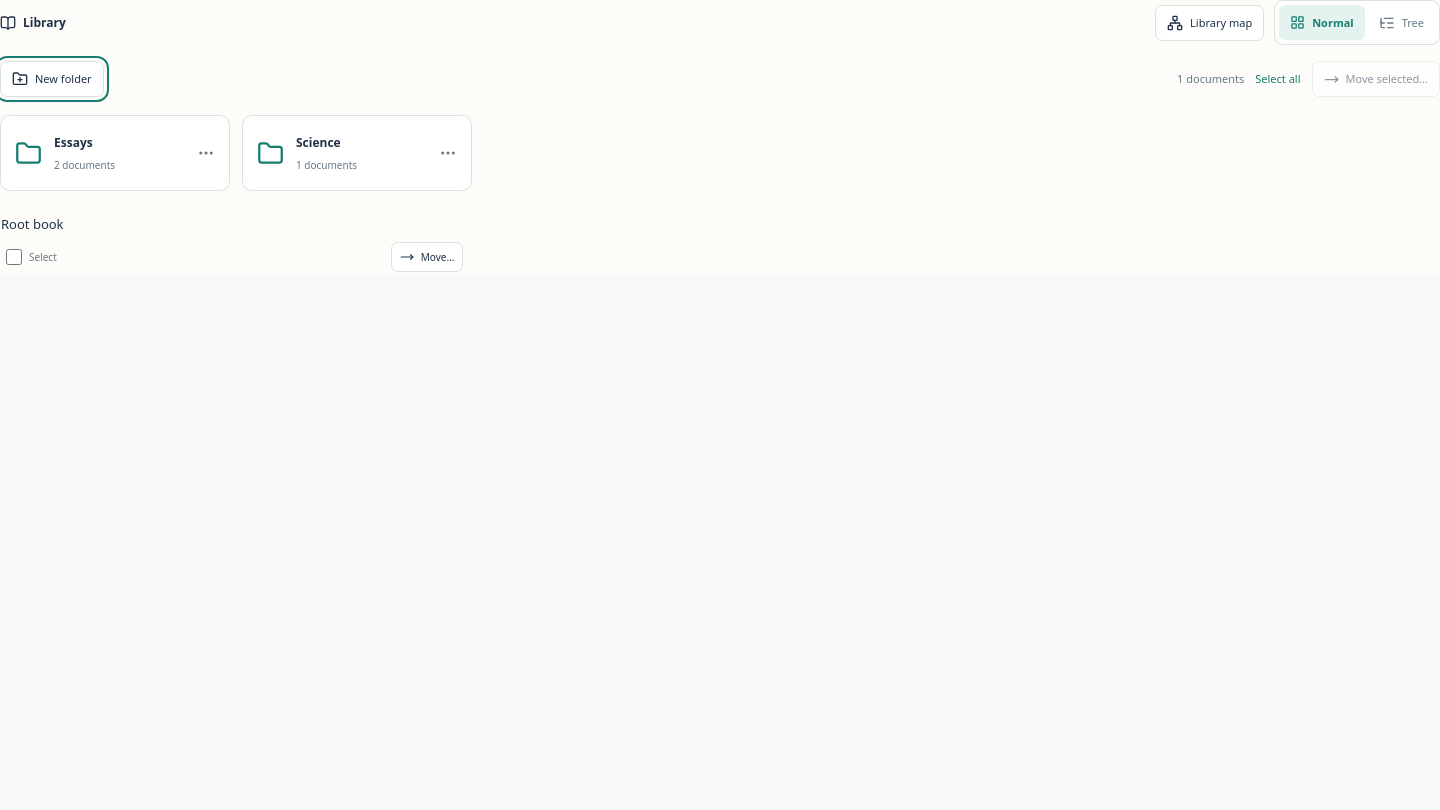
library folder mutations and dialog lifecycle › focuses, traps Tab, closes on Escape and returns focus to the opener
Click the button "New folder" at (52, 79), box [0,61,104,97]
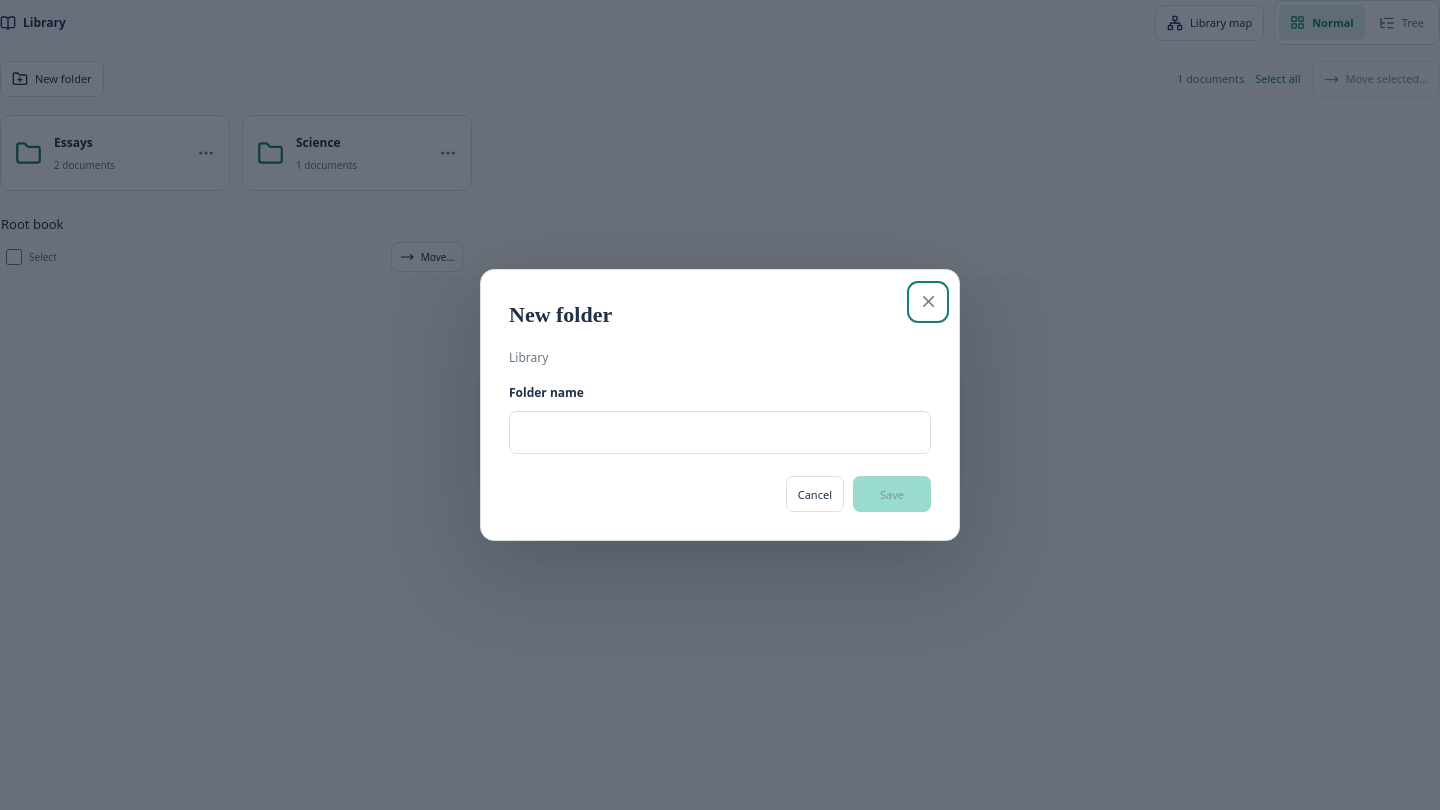
Press Tab in the button named "Close dialog", box [912,286,944,318]
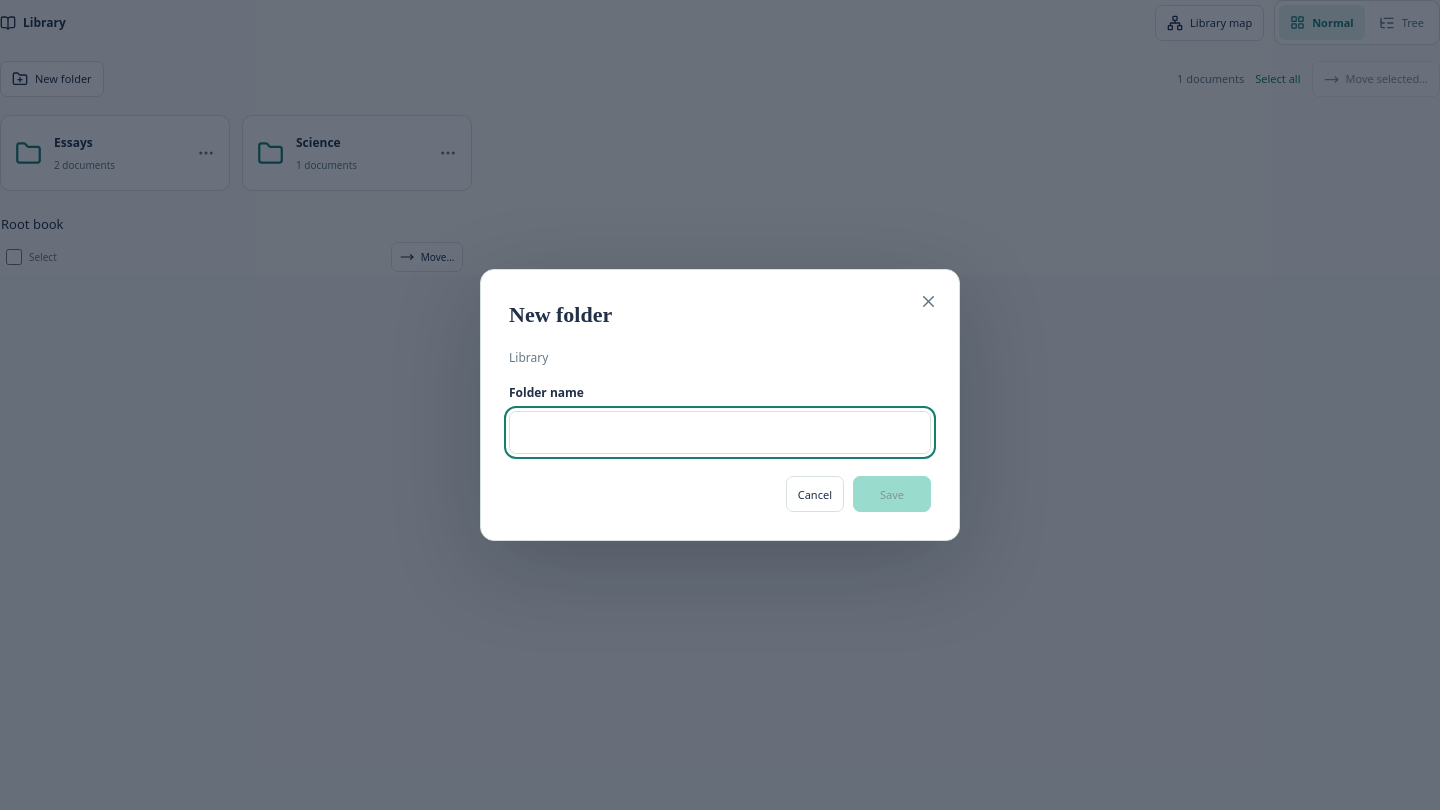
Press Tab in the field labelled "Folder name", box [509,411,931,454]
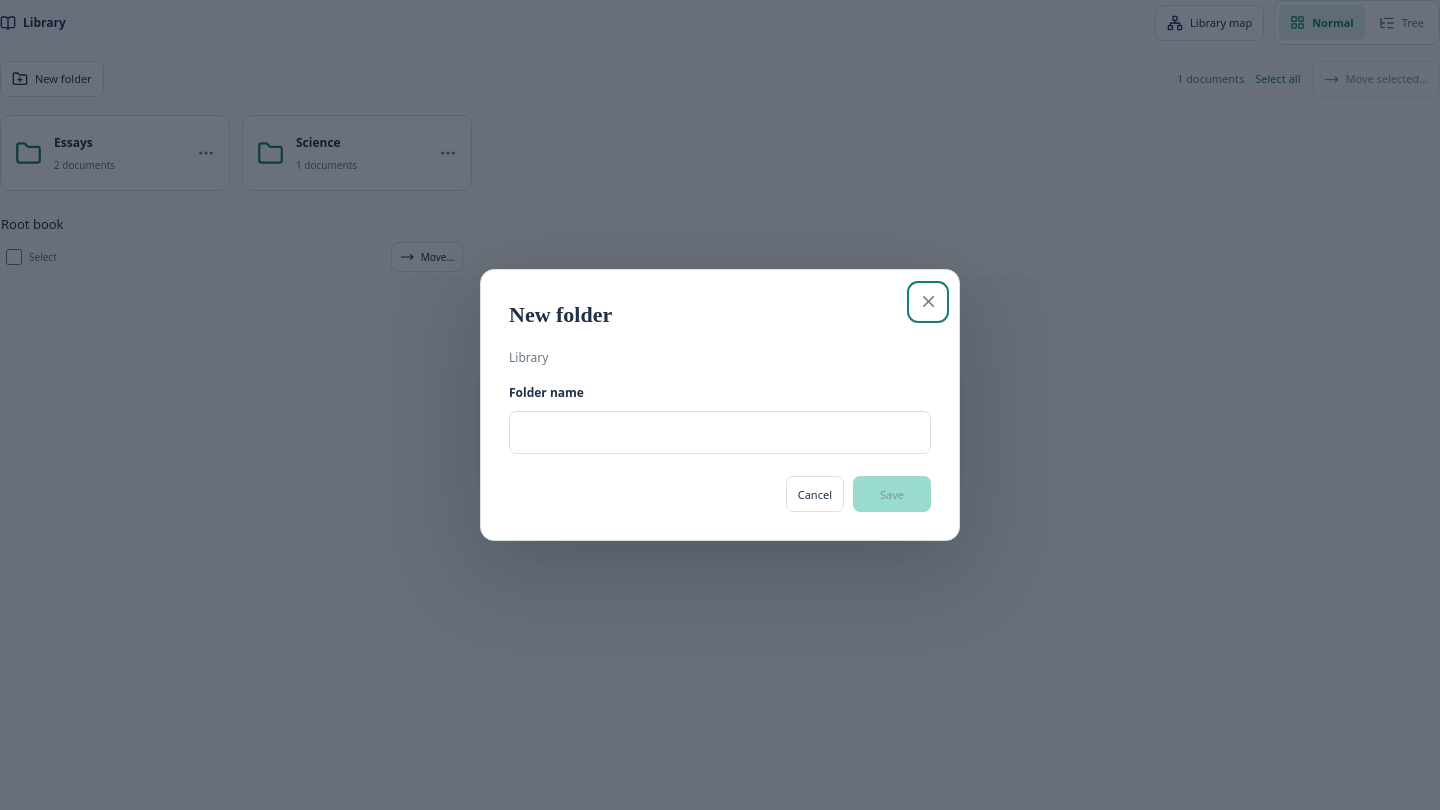
Press Escape in the button named "Close dialog", box [912,286,944,318]
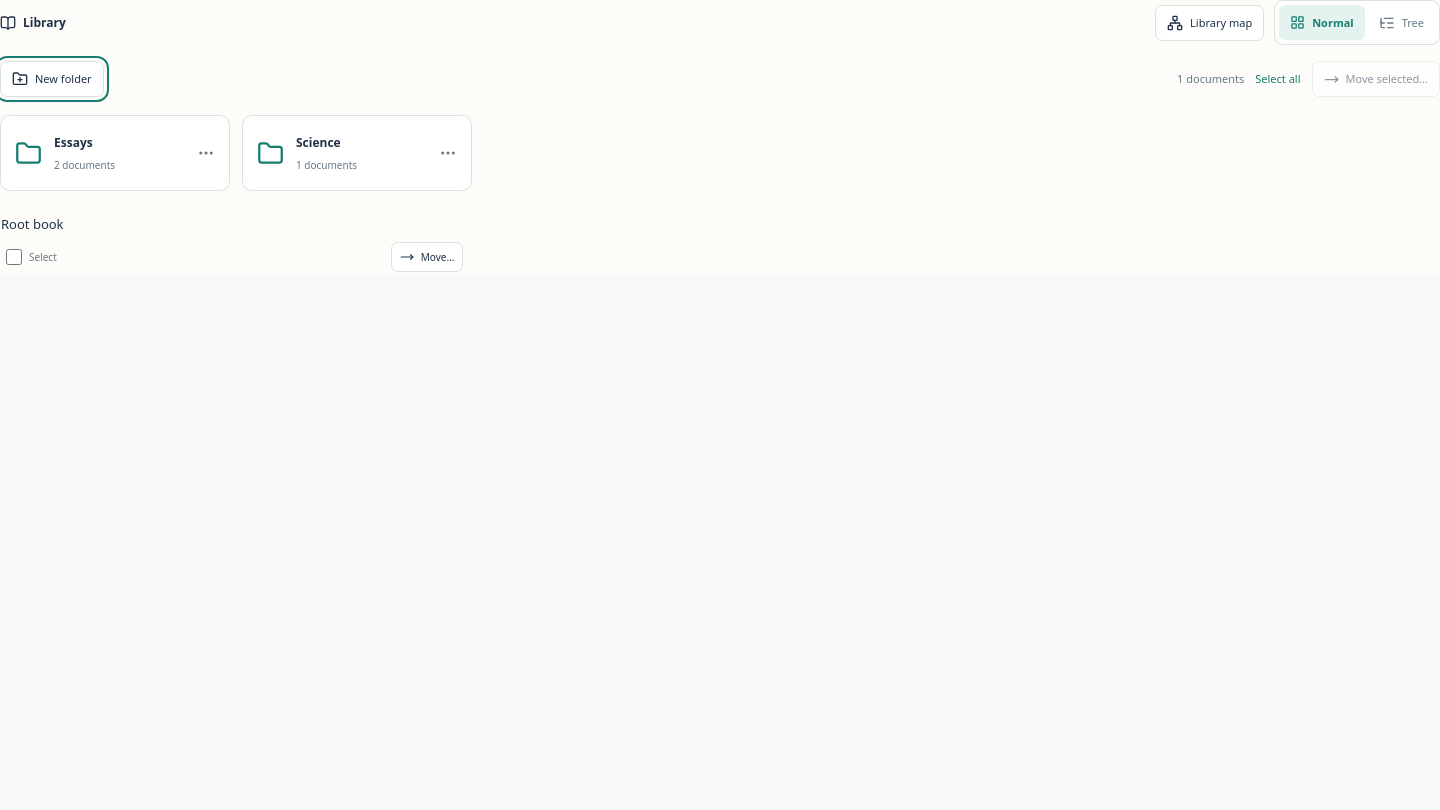
Result: the dialog is gone
